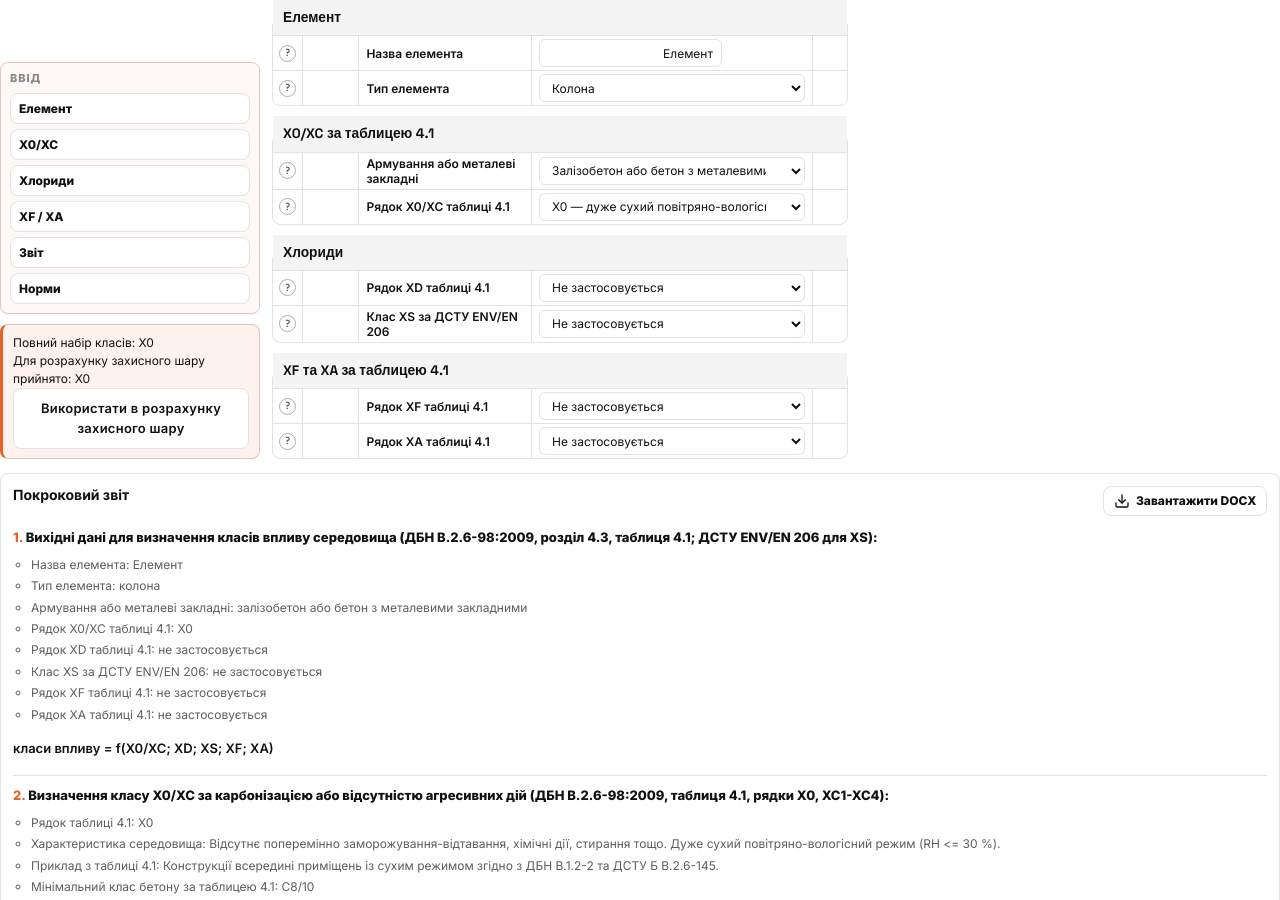
ConcreteExposureClassCalculator › selects formal table rows directly and reports governing class
Select "XC4 — поперемінне зволоження та висушування" in the dropdown labelled "Рядок X0/XC таблиці 4.1" at (672, 207), box [539, 193, 805, 221]
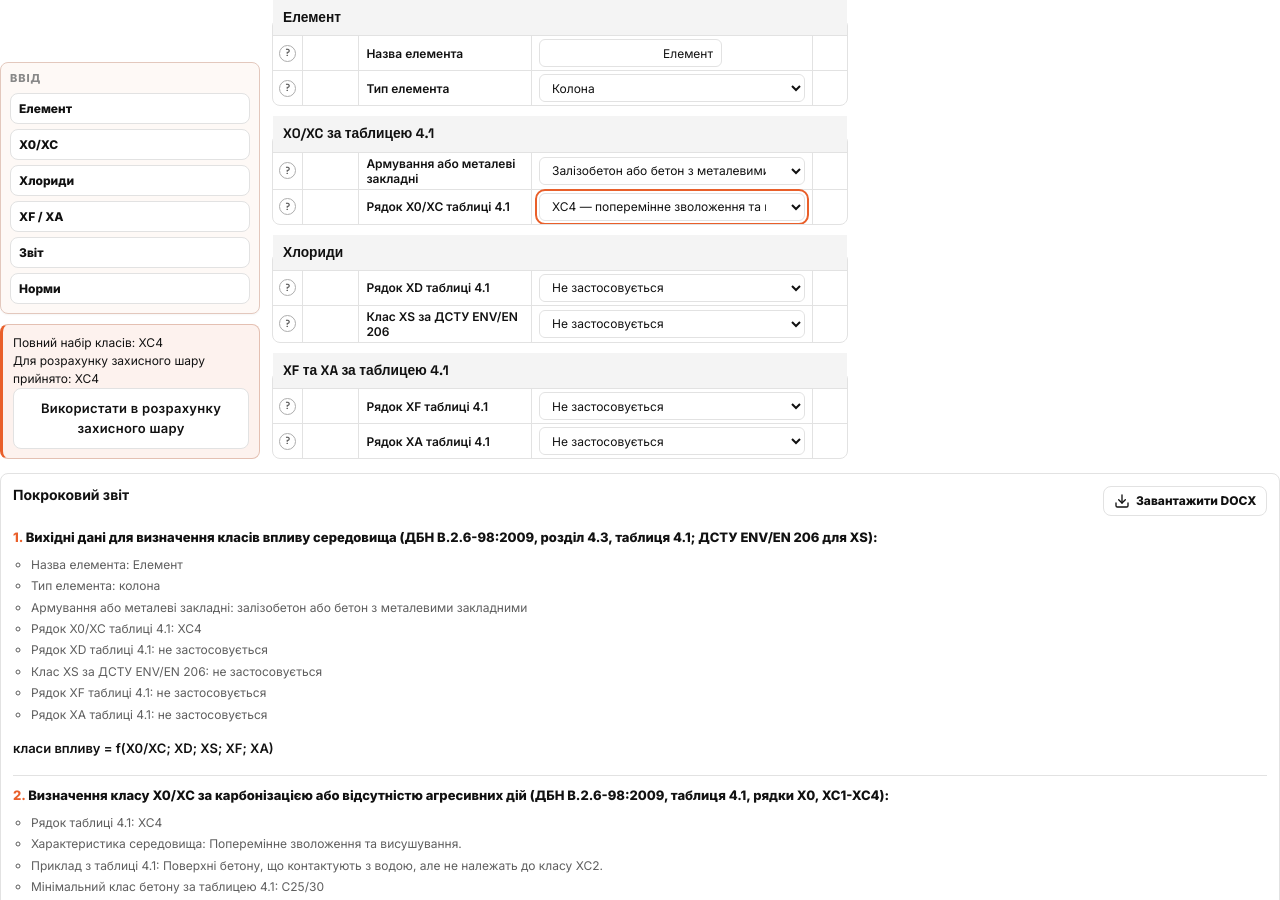
Select "XD3 — поперемінне зволоження і висушування" in the dropdown labelled "Рядок XD таблиці 4.1" at (672, 288), box [539, 274, 805, 302]
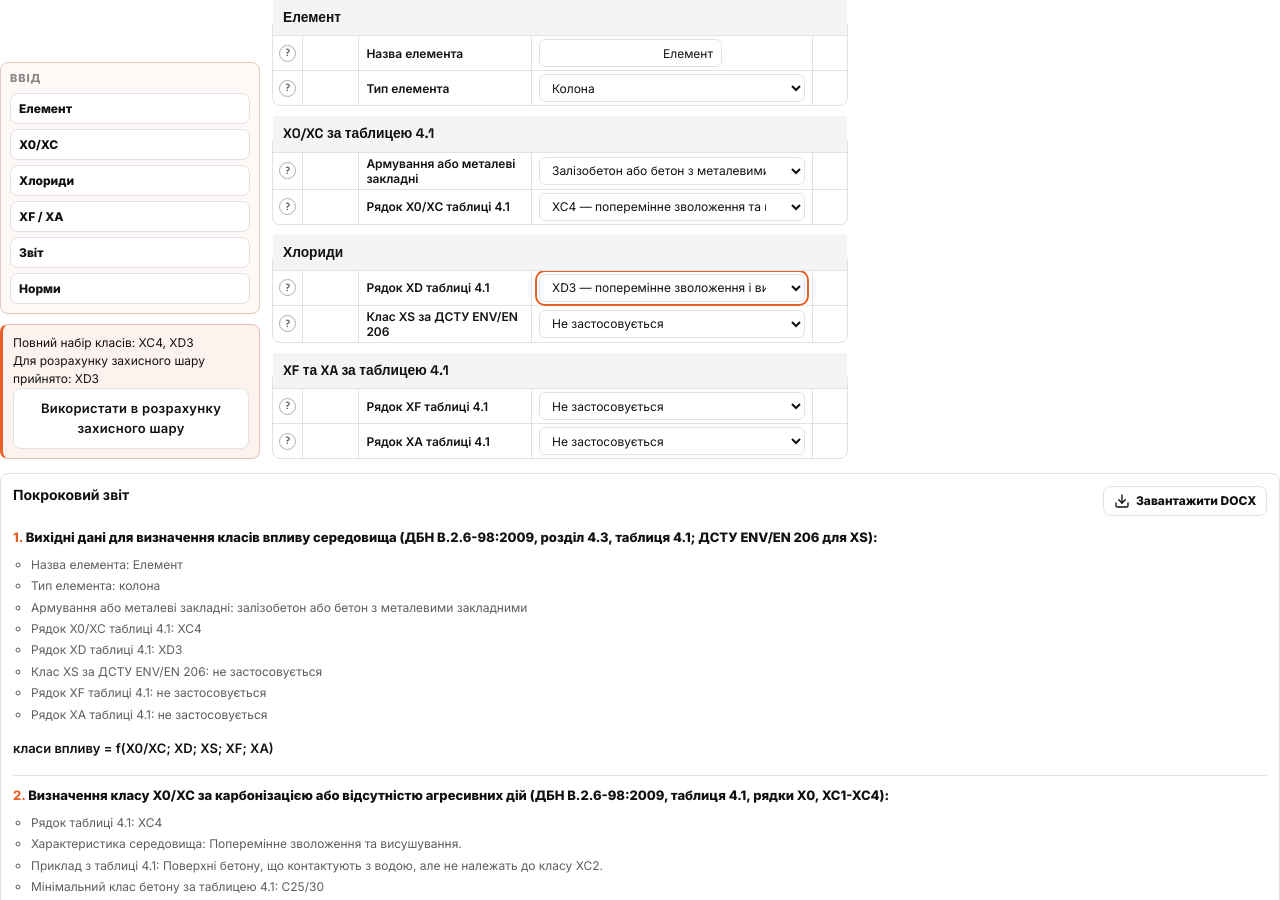
Select "XS3 — зона припливу, бризок або розпилення" in the dropdown labelled "Клас XS за ДСТУ ENV/EN 206" at (672, 324), box [539, 310, 805, 338]
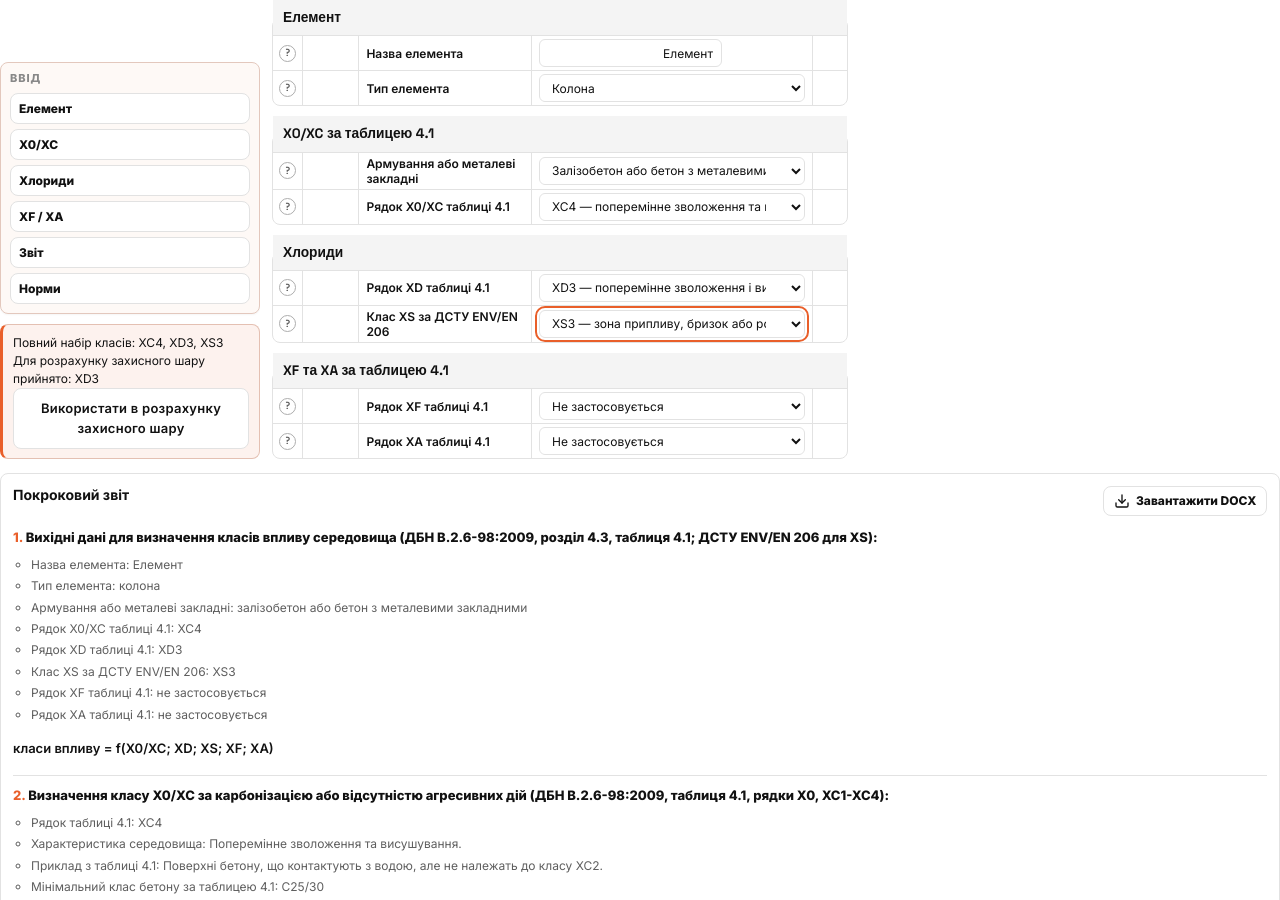
Select "XF4 — водонасичений стан з антиобморожувачами" in the dropdown labelled "Рядок XF таблиці 4.1" at (672, 406), box [539, 392, 805, 420]
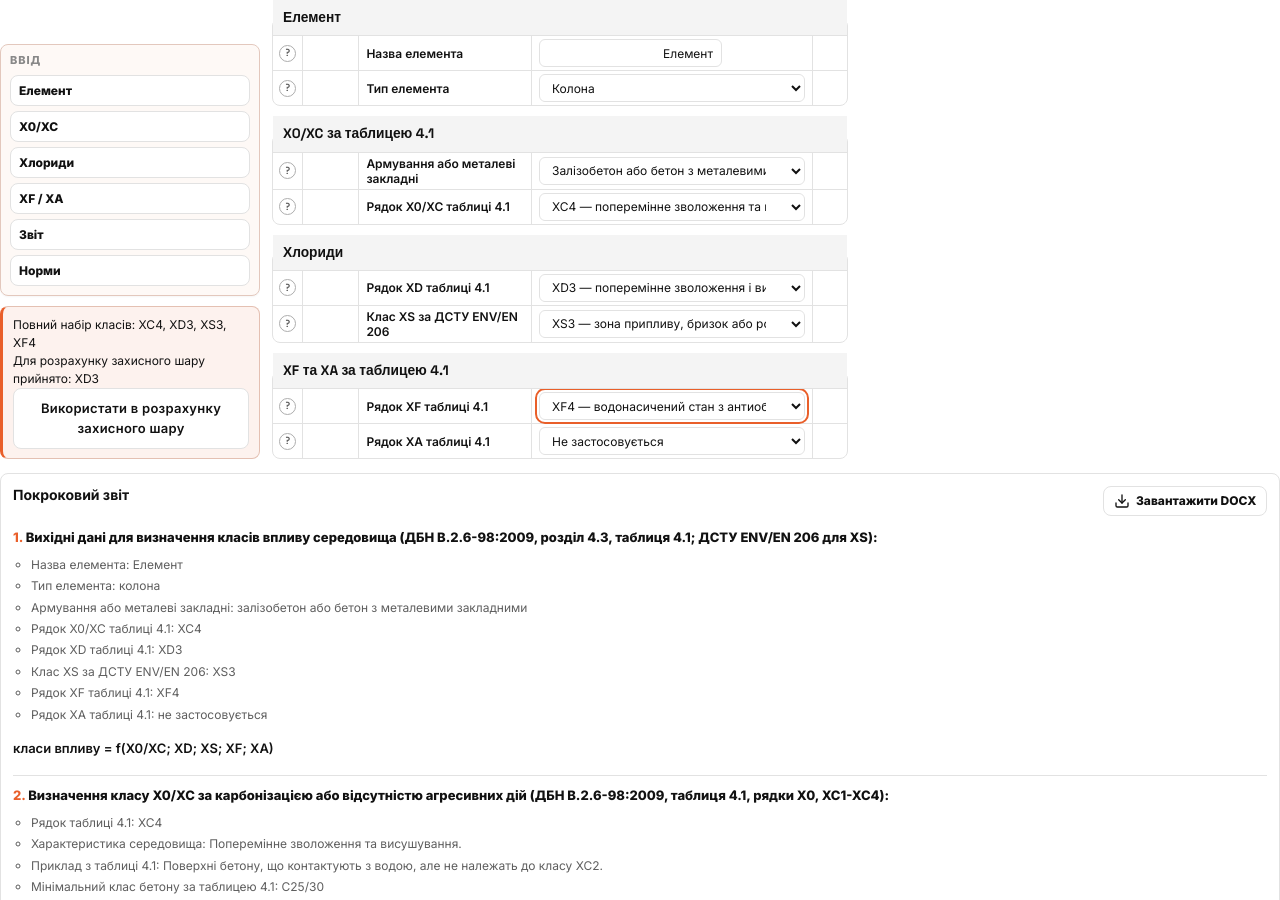
Expected: the text "Для розрахунку захисного шару прийнято: XD3" is shown, [13, 353, 205, 386]
Expected: the text "Повний набір класів: XC4, XD3, XS3, XF4" is shown, [13, 316, 249, 352]
